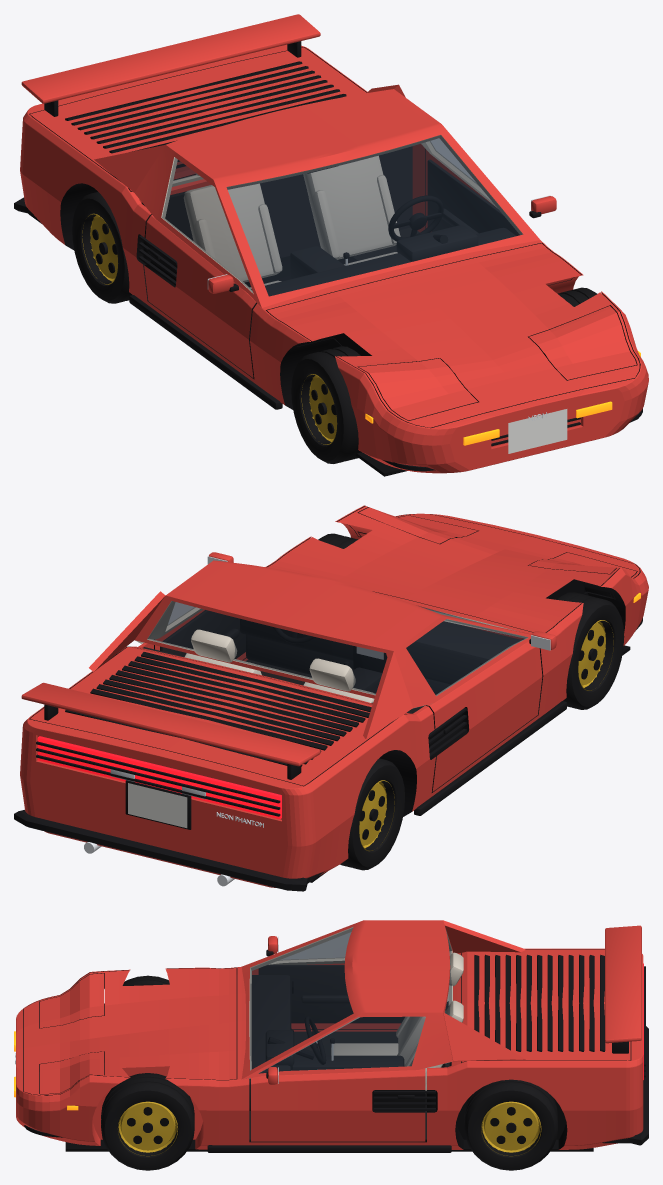
Rendered from neon-phantom.glb.
3 renders of one model, top to bottom at view 1: azimuth 30°, elevation 25°; view 2: azimuth 150°, elevation 25°; view 3: azimuth 270°, elevation 25°, orthographic. The views are drawn at different scales.
Visible parts, largest first — view 1: Body, Hood, Windows, Trunk, Interior, Door_FR, Popup_L, Tire_FR, Glass_Door_F_R, Popup_R, Tire_RR, DoorCard_FL (+7 smaller); view 2: Body, Trunk, Hood, Interior, Door_FR, Windows, Glass_Door_F_R, Lights, Tire_FR, Tire_RR, Plate_R, DoorCard_FL (+4 smaller); view 3: Body, Trunk, Hood, Door_FL, Windows, Interior, Glass_Door_F_L, Tire_FL, Tire_RL, DoorCard_FR, Rim_RL, Rim_FL (+7 smaller).
Boxes of the visible parts, box(x1,y1,x2,y2) form: Body: box(14, 44, 648, 473); Hood: box(266, 243, 639, 428); Windows: box(173, 135, 521, 296); Trunk: box(21, 14, 366, 191); Interior: box(141, 146, 515, 296); Door_FR: box(144, 215, 256, 378); Popup_L: box(528, 306, 636, 380); Tire_FR: box(291, 346, 361, 463); Glass_Door_F_R: box(162, 158, 252, 292); Popup_R: box(358, 358, 477, 420); Tire_RR: box(72, 192, 132, 303); DoorCard_FL: box(427, 159, 519, 235); Body: box(14, 505, 648, 891); Trunk: box(21, 647, 405, 786); Hood: box(267, 506, 639, 632); Interior: box(143, 619, 520, 713); Door_FR: box(426, 631, 556, 791); Windows: box(148, 601, 485, 694); Glass_Door_F_R: box(406, 619, 527, 695); Lights: box(37, 593, 640, 819); Tire_FR: box(557, 592, 624, 709); Tire_RR: box(340, 758, 404, 870); Plate_R: box(128, 783, 187, 828); DoorCard_FL: box(160, 610, 245, 658); Body: box(15, 920, 648, 1152); Trunk: box(461, 925, 641, 1062); Hood: box(23, 968, 236, 1095); Door_FL: box(251, 1067, 425, 1141); Windows: box(250, 928, 451, 1069); Interior: box(249, 952, 463, 1139); Glass_Door_F_L: box(259, 1017, 425, 1073); Tire_FL: box(101, 1073, 194, 1170); Tire_RL: box(464, 1079, 557, 1170); DoorCard_FR: box(258, 965, 404, 1023); Rim_RL: box(481, 1101, 541, 1156); Rim_FL: box(117, 1101, 177, 1156).
Bounding box in the file's own units: 2.33 × 1.18 × 4.47.
